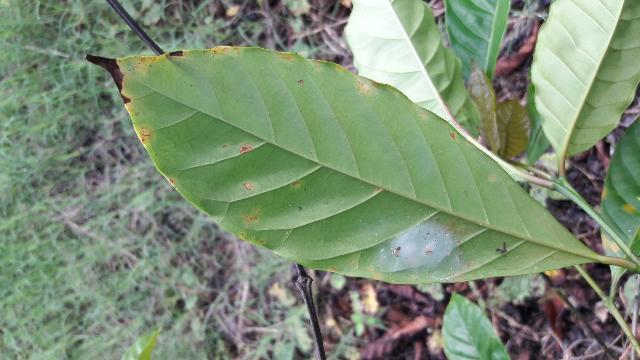rust_level_1: (84, 46, 597, 285)
